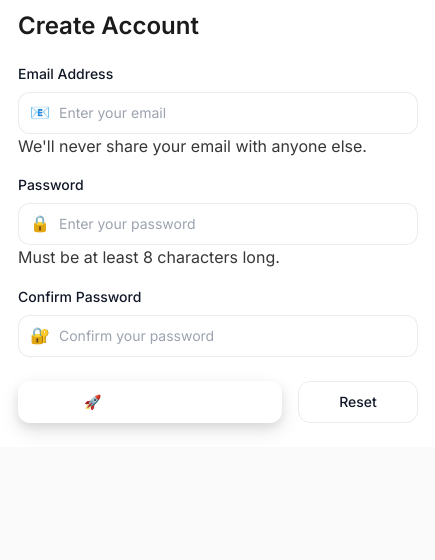
Test: Form Integration › Form Reset › resets submit status when reset button is clicked
The image size is (435, 560).
Type "test@example.com" into the field labelled "Email Address".
click(218, 113); type("test@example.com")  # box [18,92,418,134]
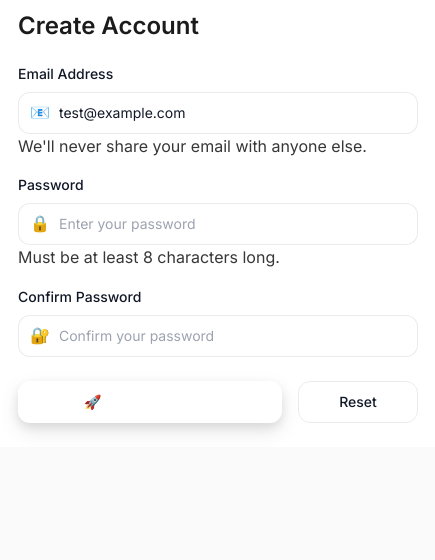
Type "password123" into the password field labelled "Password".
click(218, 224); type("password123")  # box [18,203,418,245]
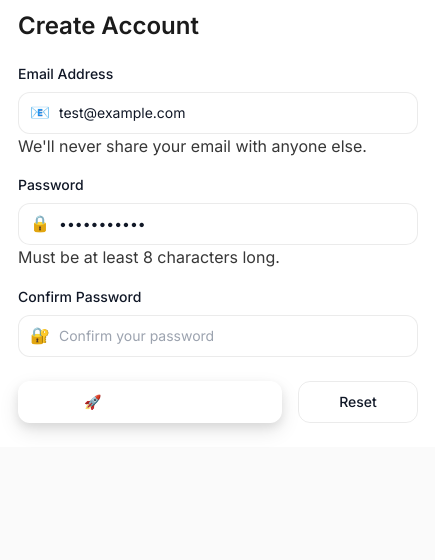
Type "password123" into the password field labelled "Confirm Password".
click(218, 336); type("password123")  # box [18,315,418,357]
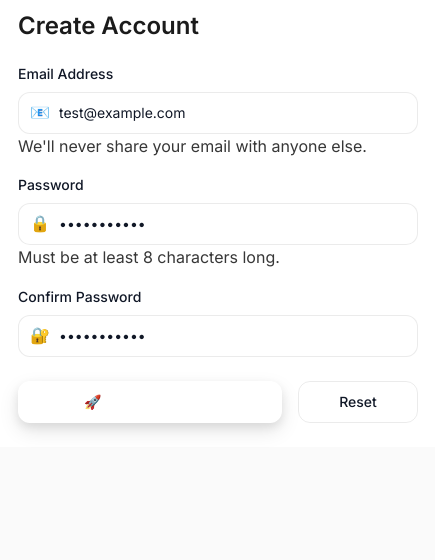
Click the button "🚀 Create Account".
click(150, 402)  # box [18,381,282,423]
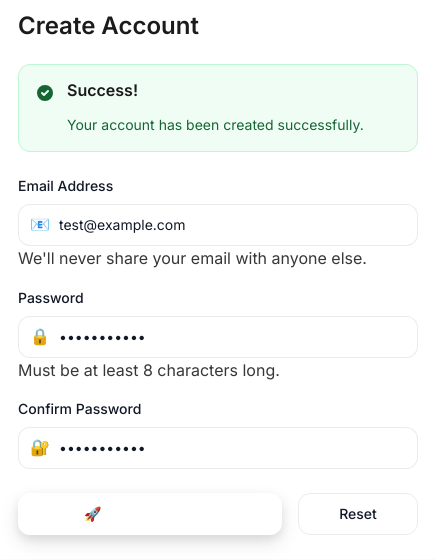
expect the heading "Success!" is shown: met, box [67,80,138,100]
Click reset button
Click the button "Reset".
click(358, 514)  # box [298,493,418,535]
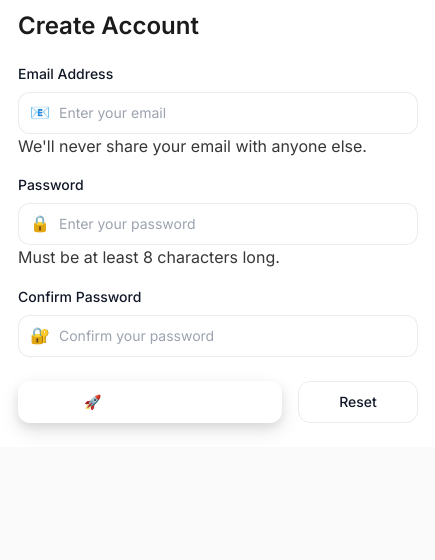
expect the heading "Success!" is gone: met
